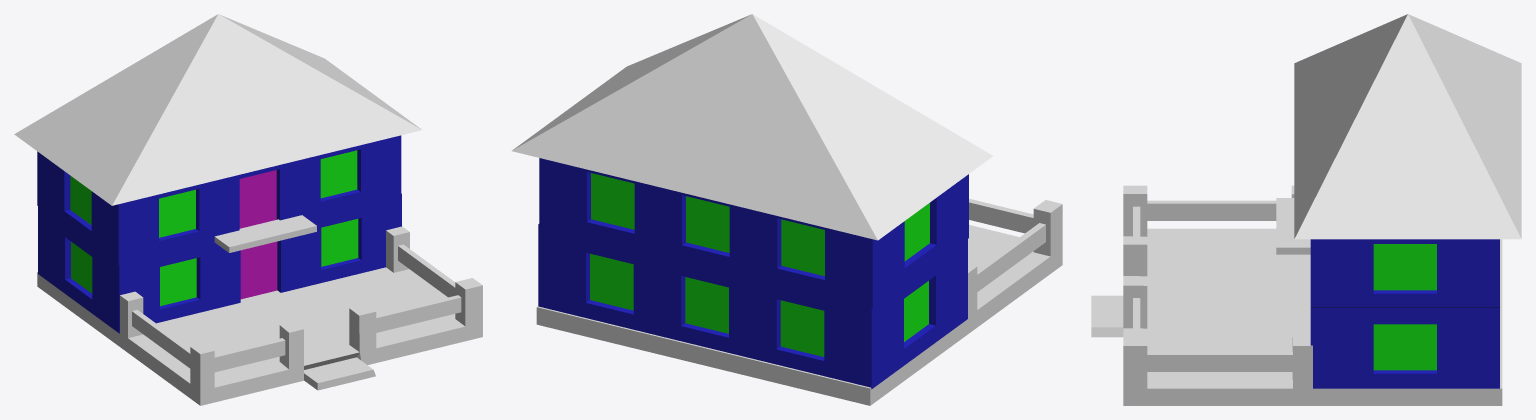
The model's file is ghosthouse.fbx.
3 renders of one model, left to right at view 1: azimuth 30°, elevation 25°; view 2: azimuth 150°, elevation 25°; view 3: azimuth 270°, elevation 25°, orthographic. The views are drawn at different scales.
Visible parts, largest first — view 1: Pyramid001, Box001, Box002, Box003, Box008, Box007, Box006, Box005, Box004; view 2: Pyramid001, Box002, Box003, Box001, Box005, Box006; view 3: Pyramid001, Box001, Box002, Box003, Box004, Box005, Box008.
Part boxes in pixels (bbox=[...]): Pyramid001: bbox=[14, 14, 421, 205]; Box001: bbox=[37, 226, 482, 405]; Box002: bbox=[38, 193, 401, 333]; Box003: bbox=[37, 135, 401, 264]; Box008: bbox=[214, 215, 316, 252]; Box007: bbox=[376, 295, 461, 332]; Box006: bbox=[214, 338, 285, 372]; Box005: bbox=[132, 310, 190, 368]; Box004: bbox=[398, 244, 455, 297]; Pyramid001: bbox=[512, 14, 992, 240]; Box002: bbox=[538, 224, 967, 389]; Box003: bbox=[539, 158, 968, 308]; Box001: bbox=[536, 200, 1062, 405]; Box005: bbox=[977, 223, 1045, 291]; Box006: bbox=[969, 198, 1033, 233]; Pyramid001: bbox=[1294, 14, 1521, 239]; Box001: bbox=[1091, 185, 1502, 405]; Box002: bbox=[1310, 307, 1499, 388]; Box003: bbox=[1310, 239, 1499, 307]; Box004: bbox=[1147, 351, 1292, 371]; Box005: bbox=[1147, 200, 1276, 220]; Box008: bbox=[1276, 198, 1310, 254].
Bounding box in the file's own units: 11 × 9.07 × 11.36.
